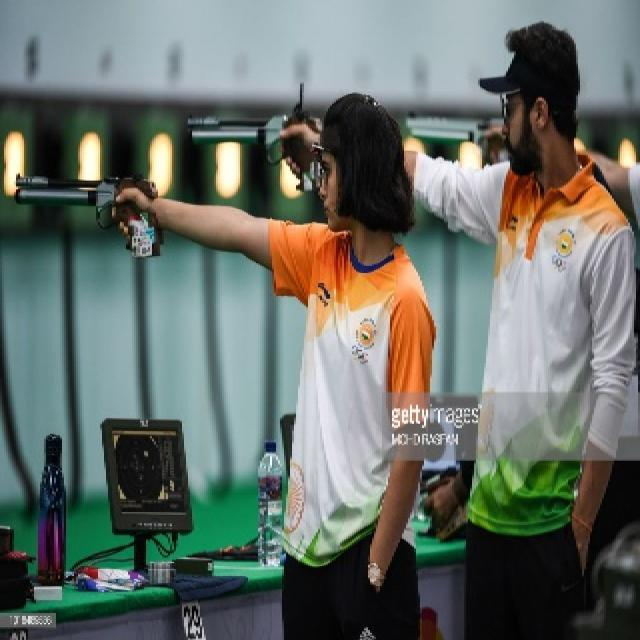weapon: (8, 168, 168, 262), (172, 111, 320, 191), (398, 106, 496, 150)
